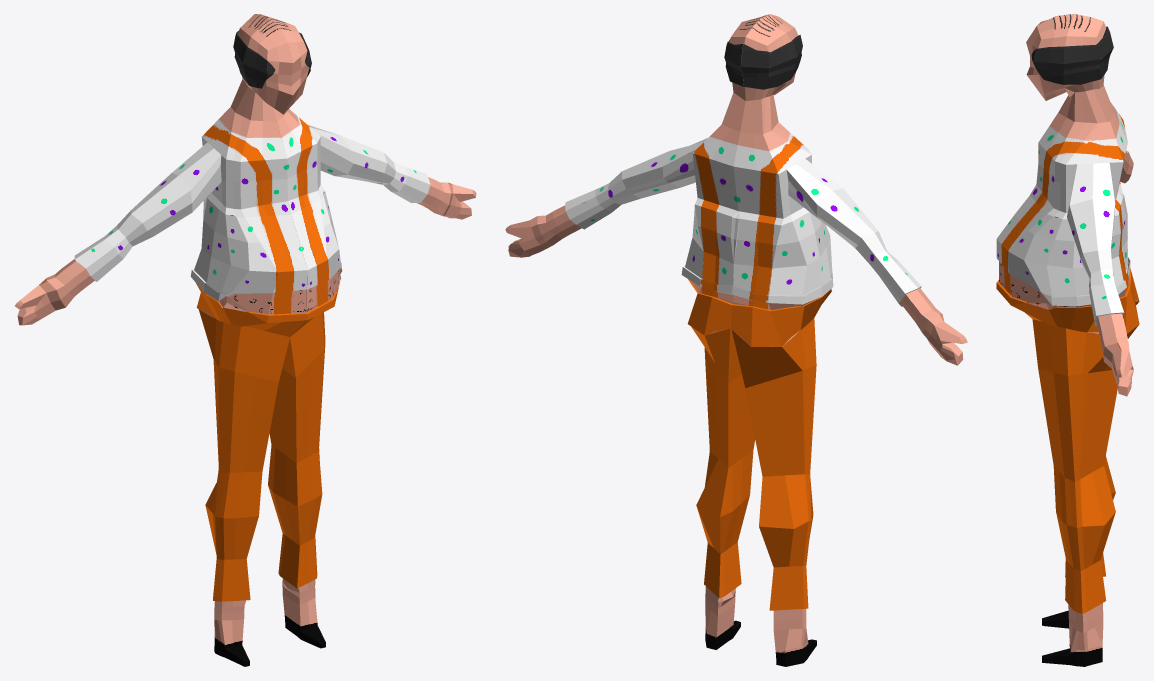
File: Gerente.fbx
The picture shows the model from 3 angles, left to right: view 1: azimuth 30°, elevation 25°; view 2: azimuth 150°, elevation 25°; view 3: azimuth 270°, elevation 25°; orthographic projection.
Visible parts, largest first — view 1: Cube; view 2: Cube; view 3: Cube.
Part boxes in pixels (x1,y1,x2,y2): Cube: (15, 14, 476, 666); Cube: (505, 14, 967, 666); Cube: (996, 14, 1139, 666).
Size of the model in its own units: 592 by 769 by 159.
1 material, 1 textured.
